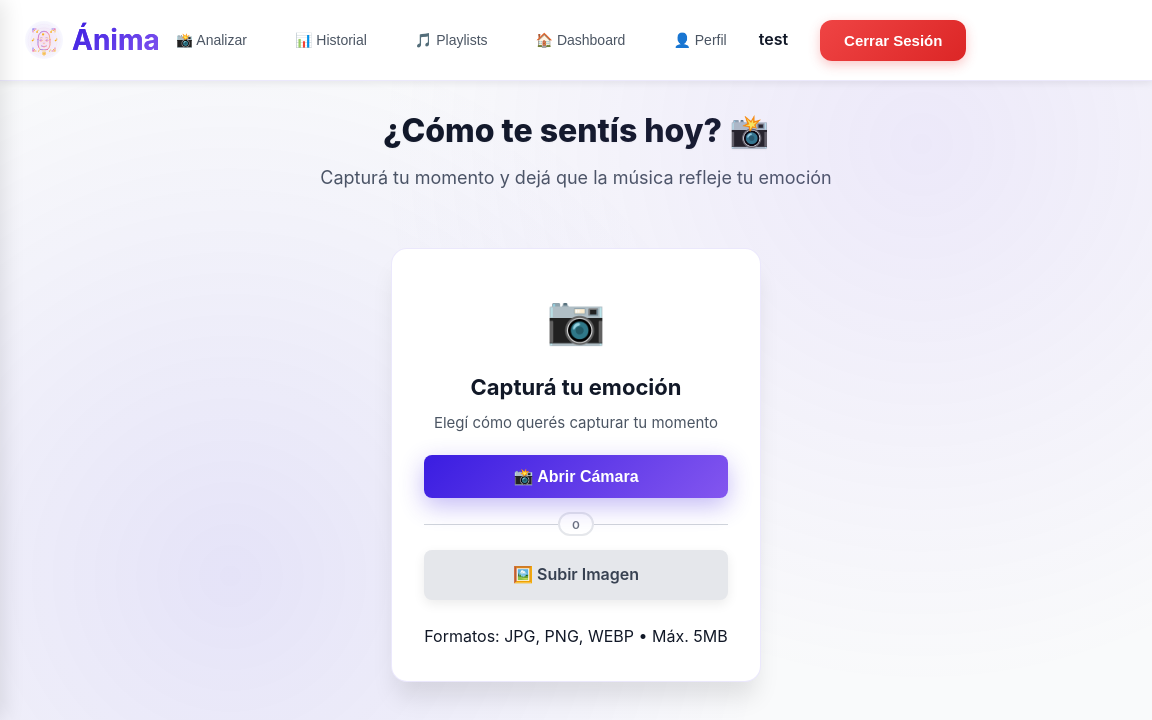
Scenario: Home component › startCamera permission denied sets appropriate error message
Click the button "📸 Abrir Cámara" at (576, 476), box [424,455,728,498]
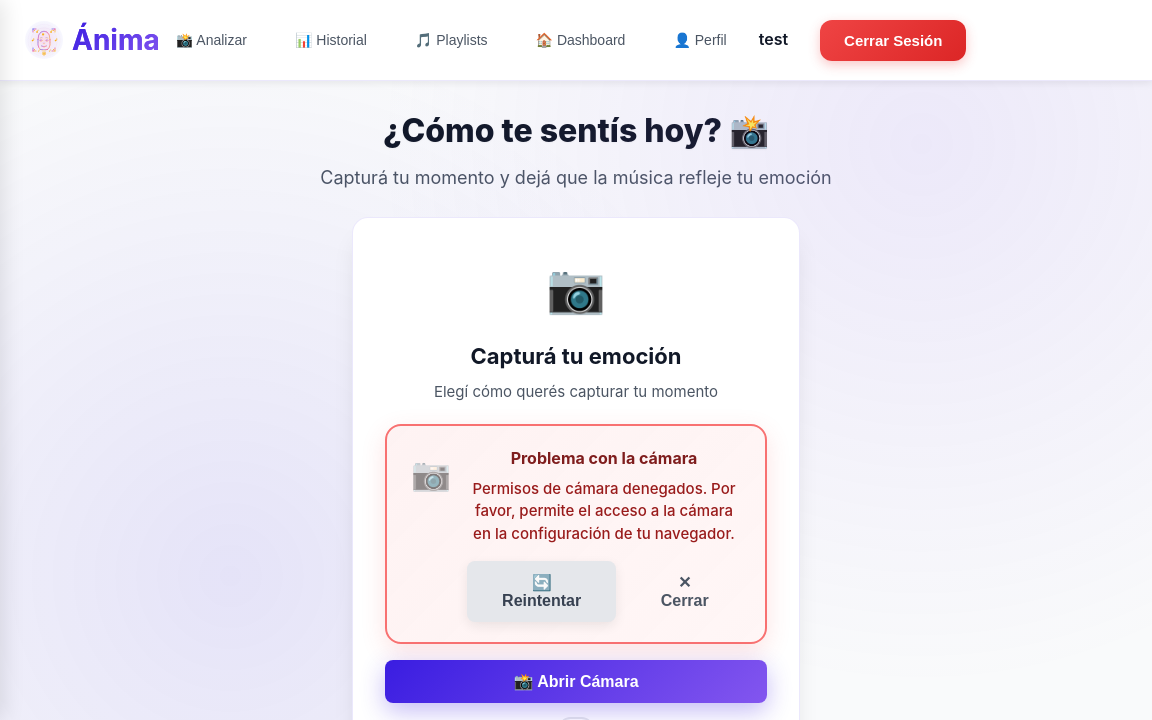
Check: the text "Permisos de cámara denegados" is shown, box [472,479,736,543]
